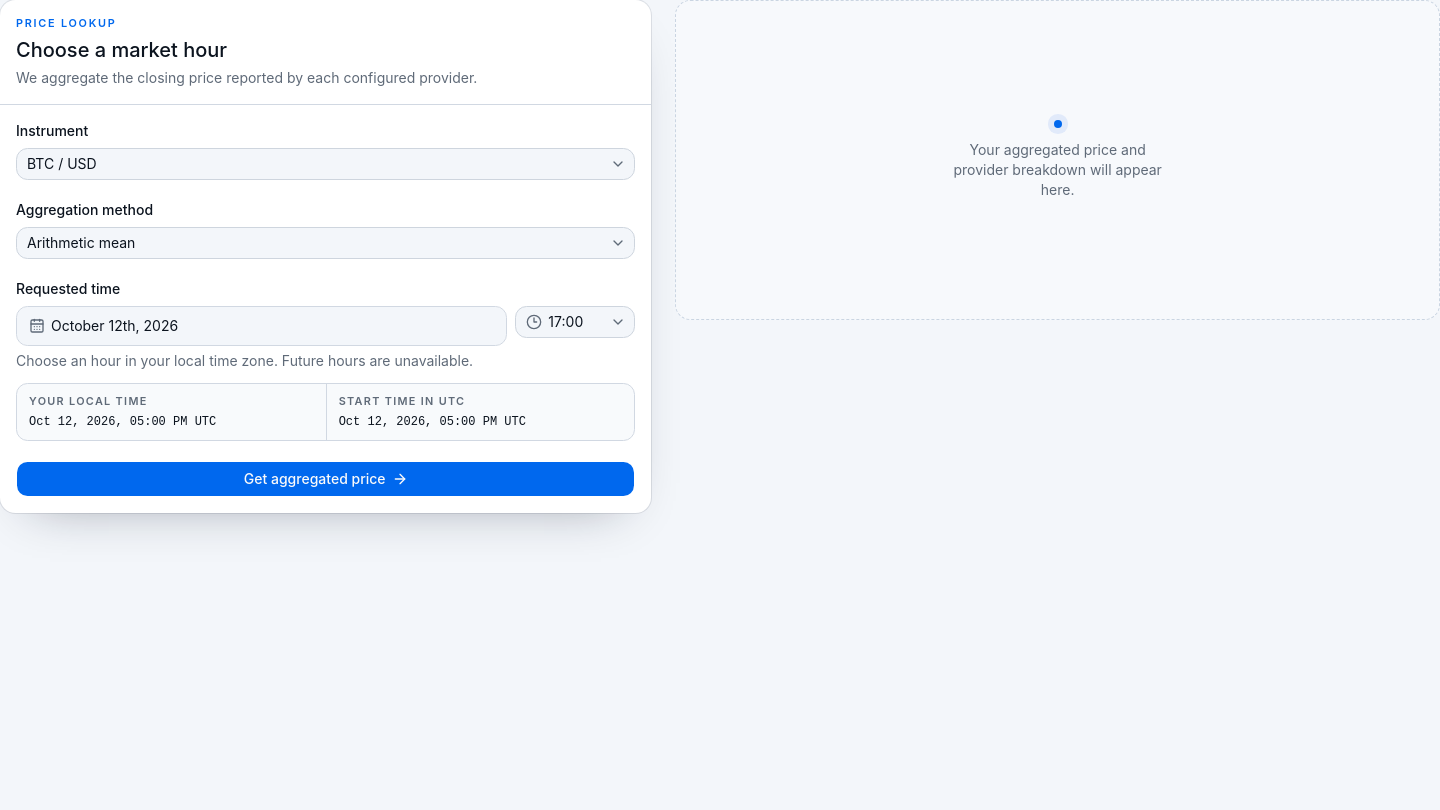
Scenario: PriceRequestForm › shows a useful API error in an alert
This screenshot has width=1440, height=810.
Step 1. Click the button "Get aggregated price" → (326, 479), box [16, 461, 635, 497]
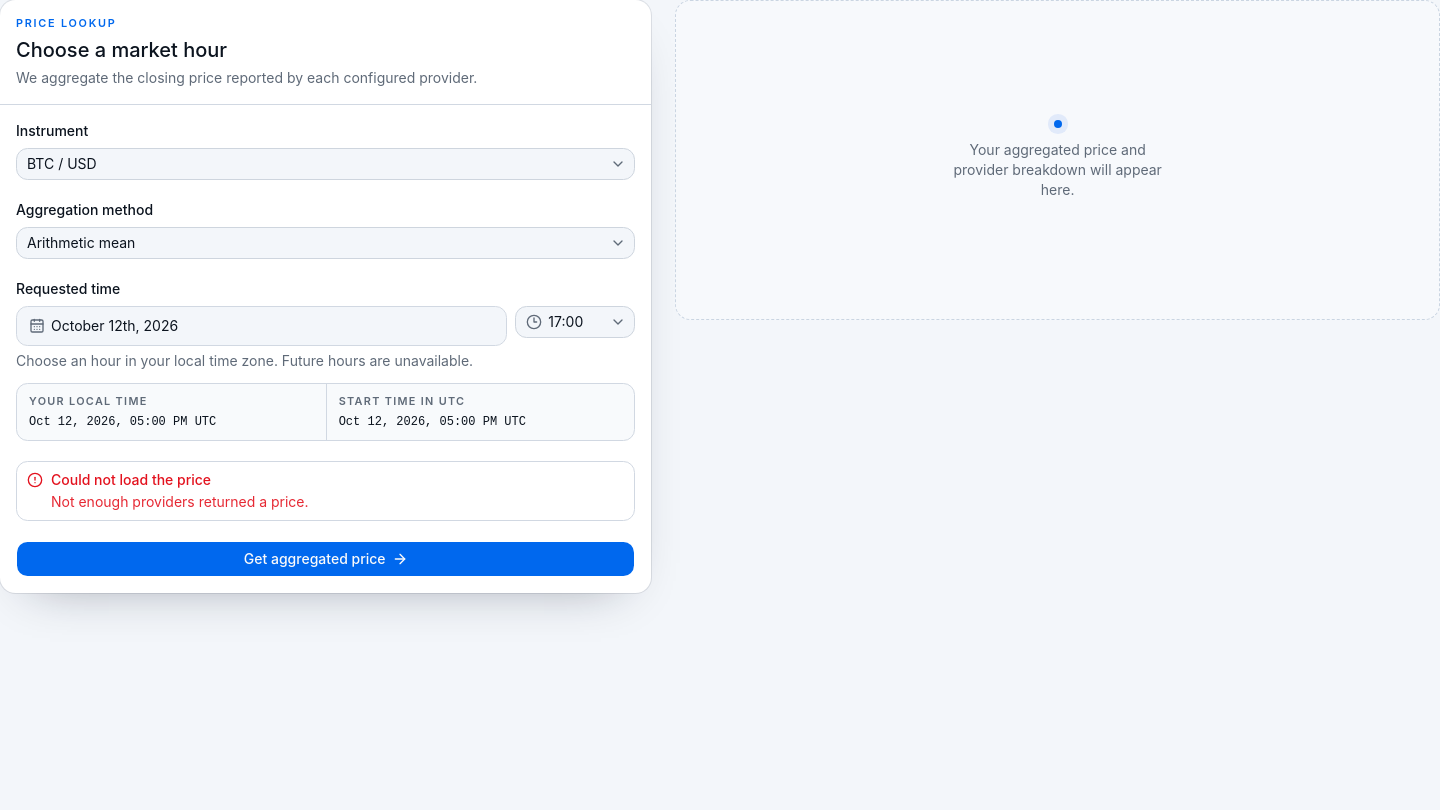
expect the message shows "Not enough providers returned a price.": met, box [51, 493, 308, 510]
